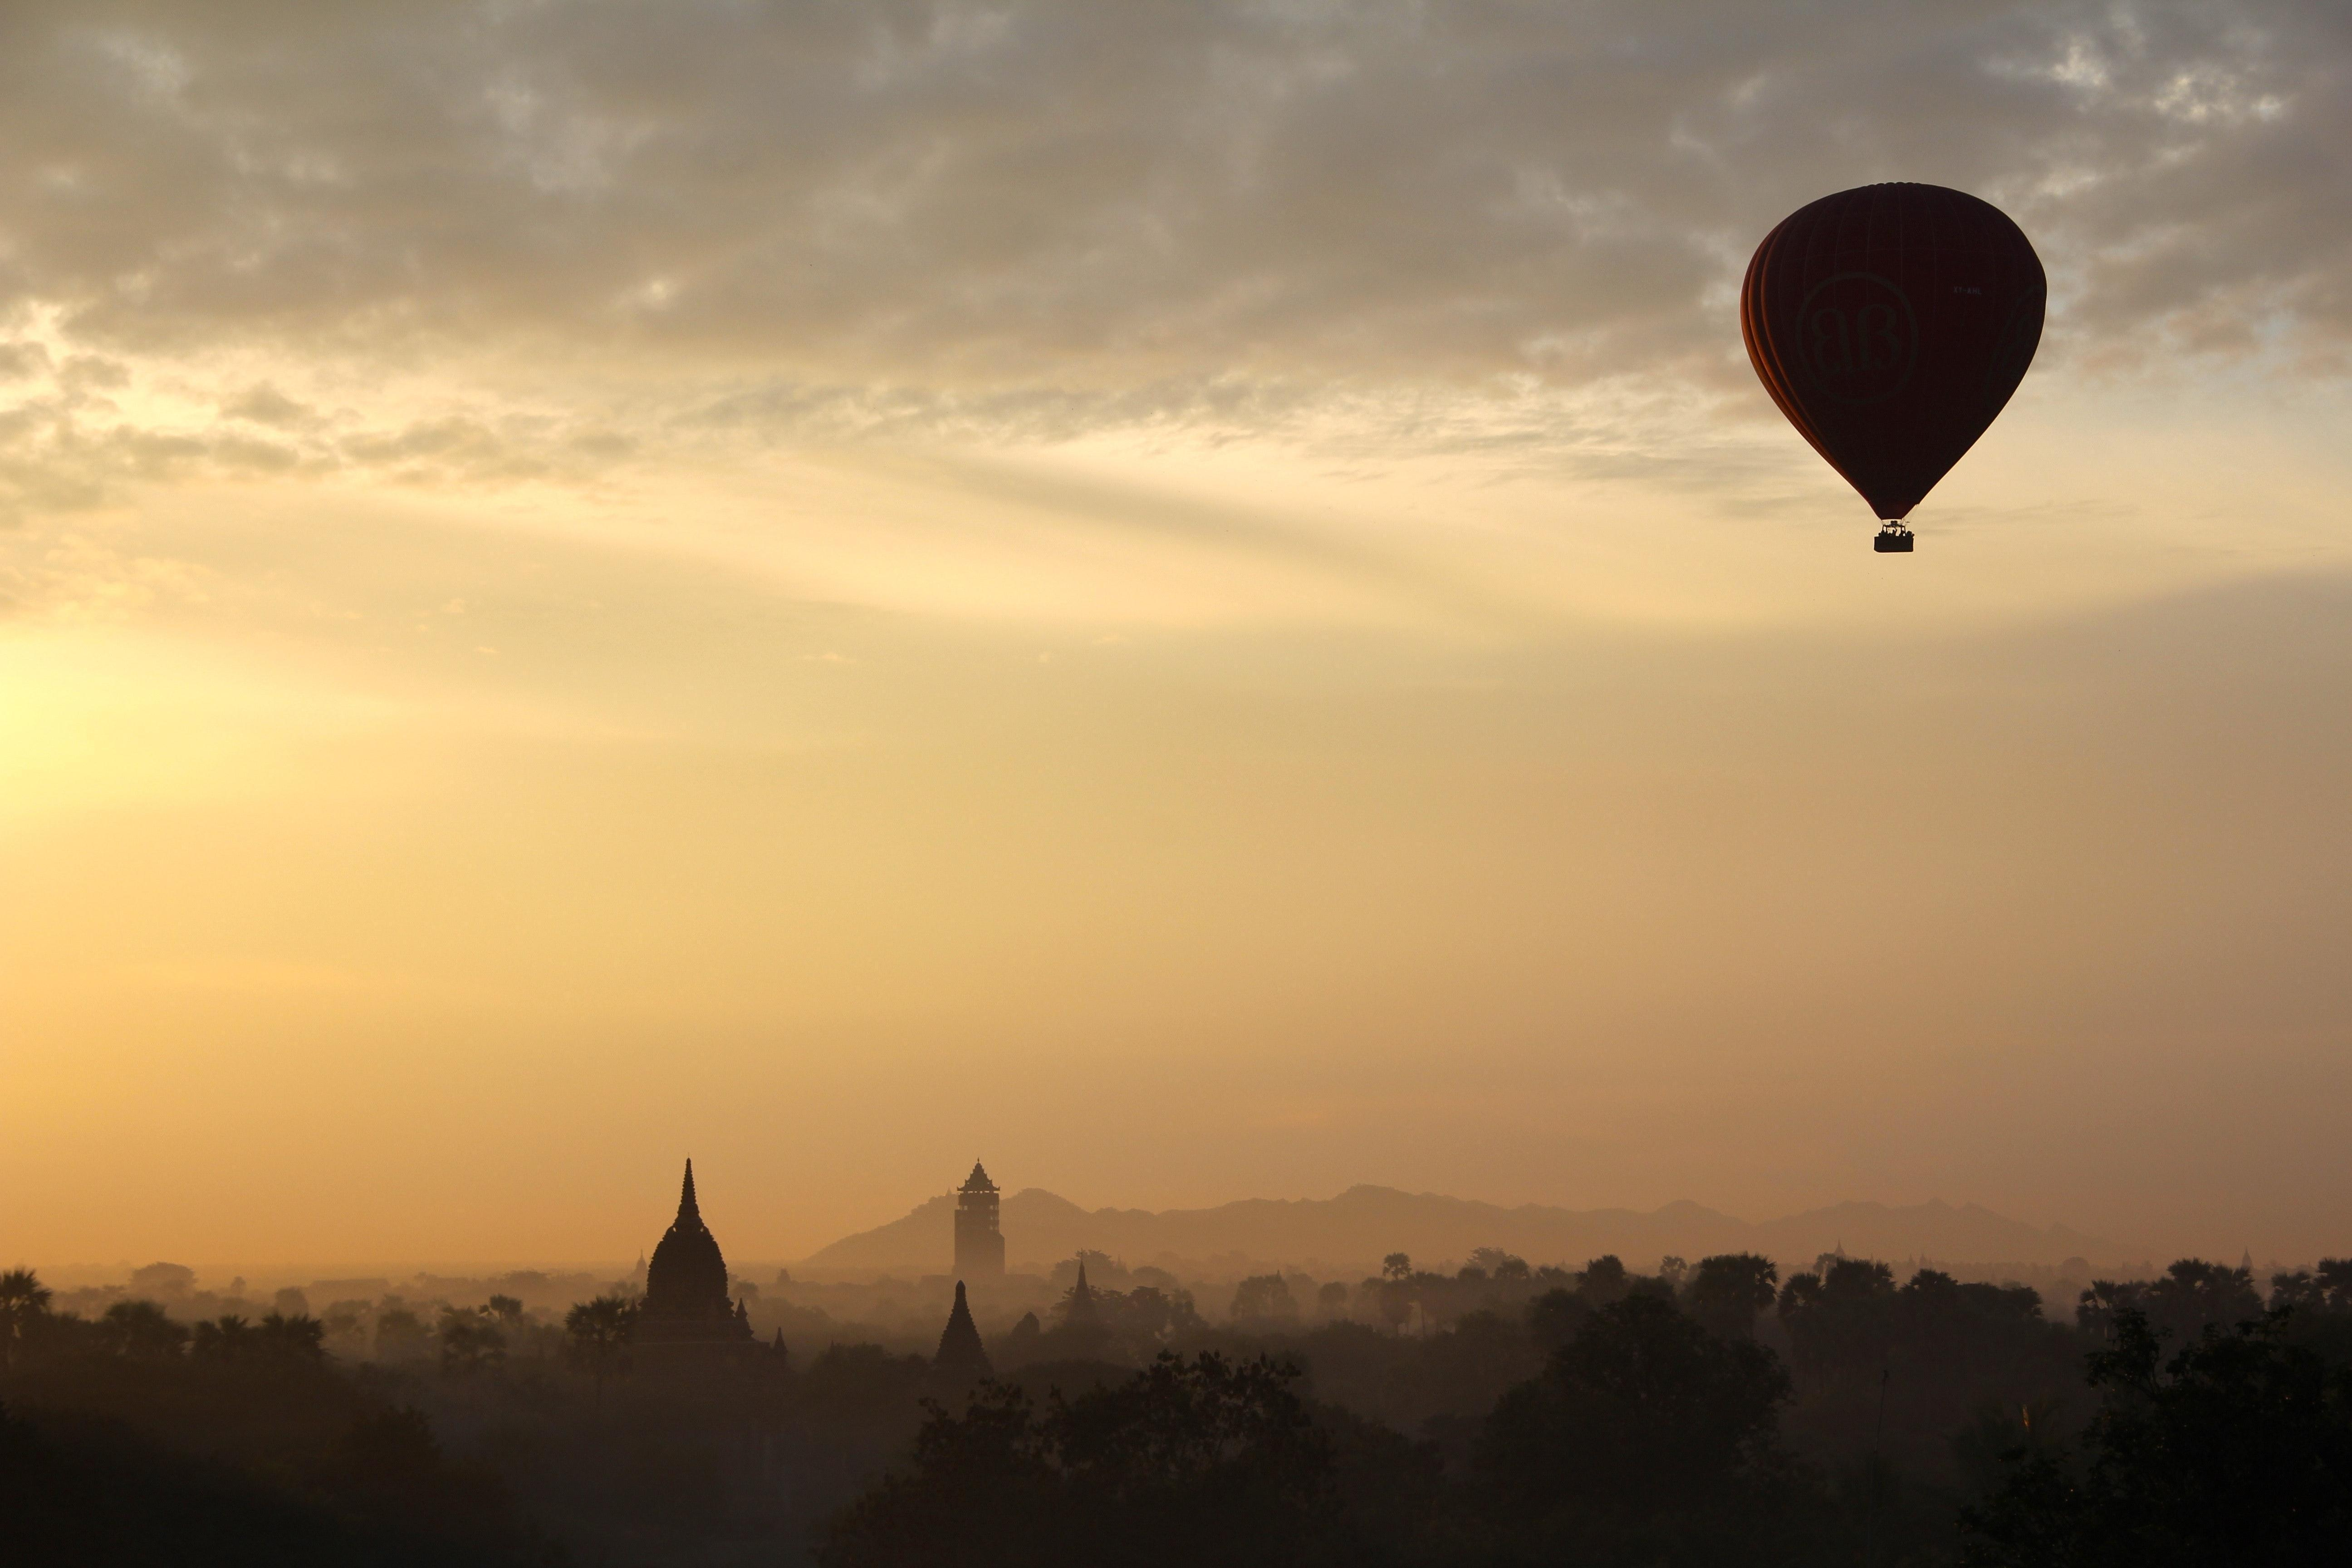hot air ballon: (1738, 180, 2051, 551)
